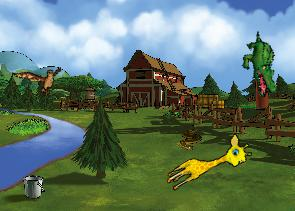crocodile: (230, 30, 292, 99)
eagle: (12, 53, 69, 105)
giraffe: (162, 130, 255, 201)
